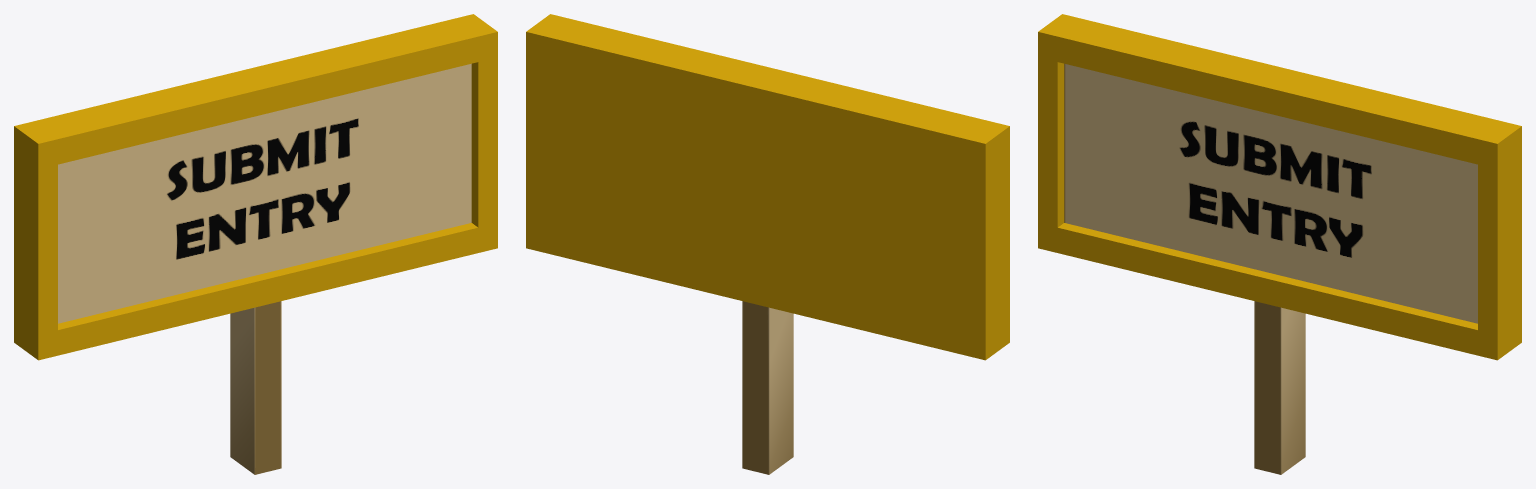
The model's file is signPost_Entry.fbx.
3 renders of one model, left to right at view 1: azimuth 30°, elevation 25°; view 2: azimuth 150°, elevation 25°; view 3: azimuth 330°, elevation 25°, orthographic.
Parts seen in each view (by area): view 1: pCube3; view 2: pCube3; view 3: pCube3.
Boxes of the visible parts, x1,y1,x2,y2 form: pCube3: (14,14,497,474); pCube3: (526,14,1009,474); pCube3: (1038,14,1521,474).
Bounding box in the file's own units: 6.34 × 5.06 × 0.5821.
2 materials, 1 textured.
